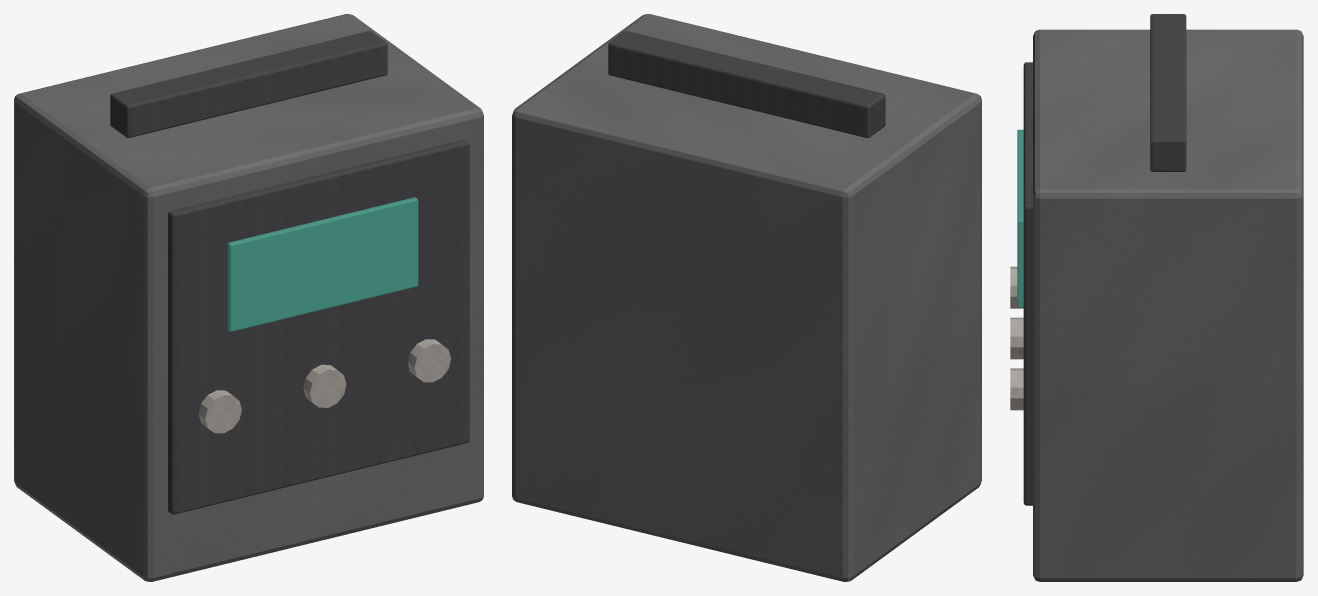
The model's file is welding_unit.glb.
3 views of the same model, side by side, from view 1: azimuth 30°, elevation 25°; view 2: azimuth 150°, elevation 25°; view 3: azimuth 270°, elevation 25° (orthographic).
Parts seen in each view (by area): view 1: unit.004, face.006, display.018, handle.006, control.002, control, control.001; view 2: unit.004, handle.006; view 3: unit.004, handle.006, face.006, display.018, control.001, control.002.
Boxes of the visible parts, bbox=[...] form: unit.004: bbox=[14, 14, 483, 581]; face.006: bbox=[168, 139, 469, 514]; display.018: bbox=[227, 197, 418, 331]; handle.006: bbox=[110, 31, 387, 137]; control.002: bbox=[407, 339, 450, 382]; control: bbox=[198, 390, 241, 433]; control.001: bbox=[303, 364, 346, 407]; unit.004: bbox=[512, 14, 981, 581]; handle.006: bbox=[608, 31, 885, 137]; unit.004: bbox=[1033, 29, 1303, 581]; handle.006: bbox=[1150, 14, 1186, 171]; face.006: bbox=[1023, 62, 1032, 505]; display.018: bbox=[1017, 129, 1023, 307]; control.001: bbox=[1010, 317, 1023, 359]; control.002: bbox=[1010, 368, 1023, 410].
Bounding box in the file's own units: 0.65 × 0.78 × 0.4875.
4 materials, 3 textured.
